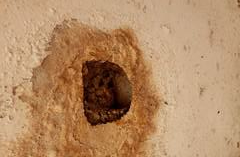Corrosion: (1, 18, 161, 157)
Spalling: (82, 60, 133, 127)
